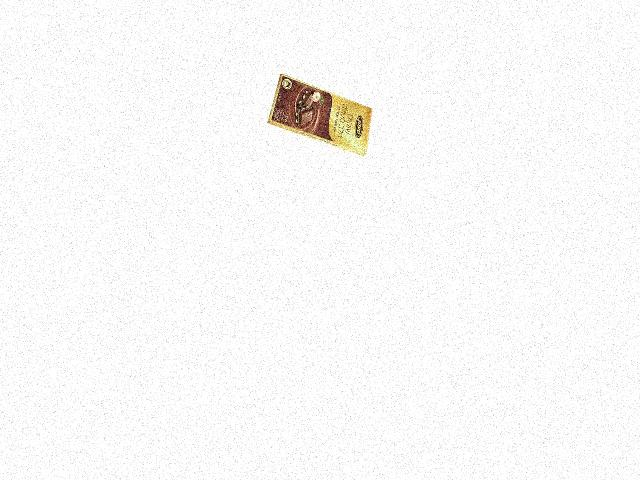chocolate: (257, 73, 372, 159)
